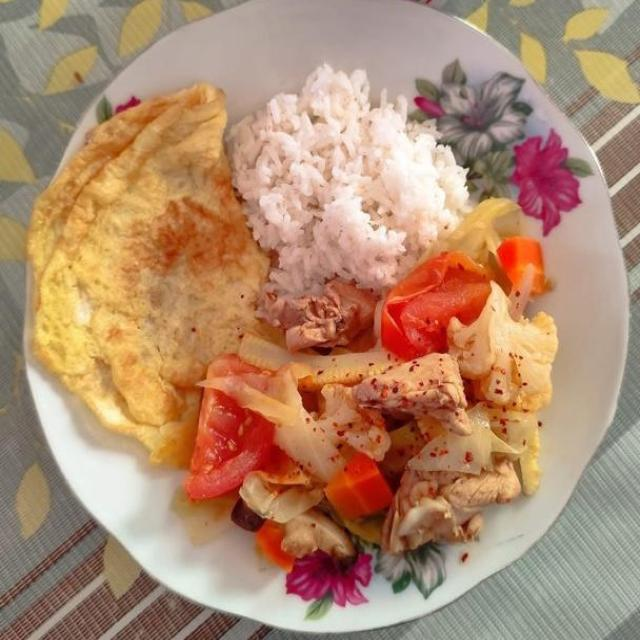Chicken: (393, 458, 519, 549), (257, 269, 379, 353), (364, 353, 471, 428), (280, 506, 358, 562)
Egg: (35, 81, 278, 474)
Plate: (27, 176, 628, 631)
Rice: (221, 62, 476, 303)
Vegetables: (166, 201, 556, 582)
